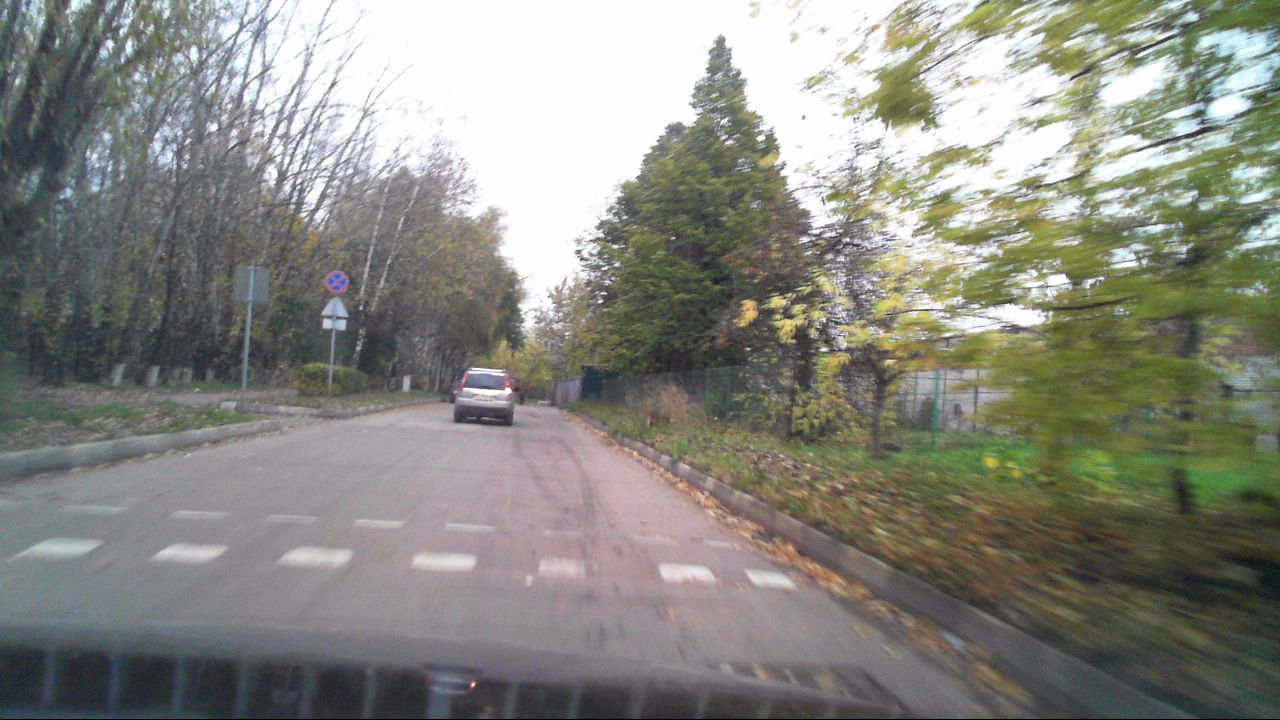No Parking: (324, 269, 347, 294)
